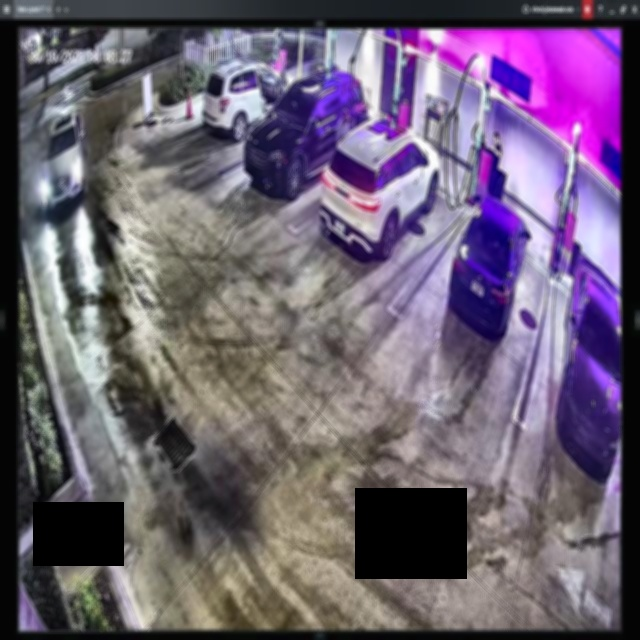Car: (321, 113, 439, 260), (243, 66, 368, 196), (449, 192, 530, 337)
